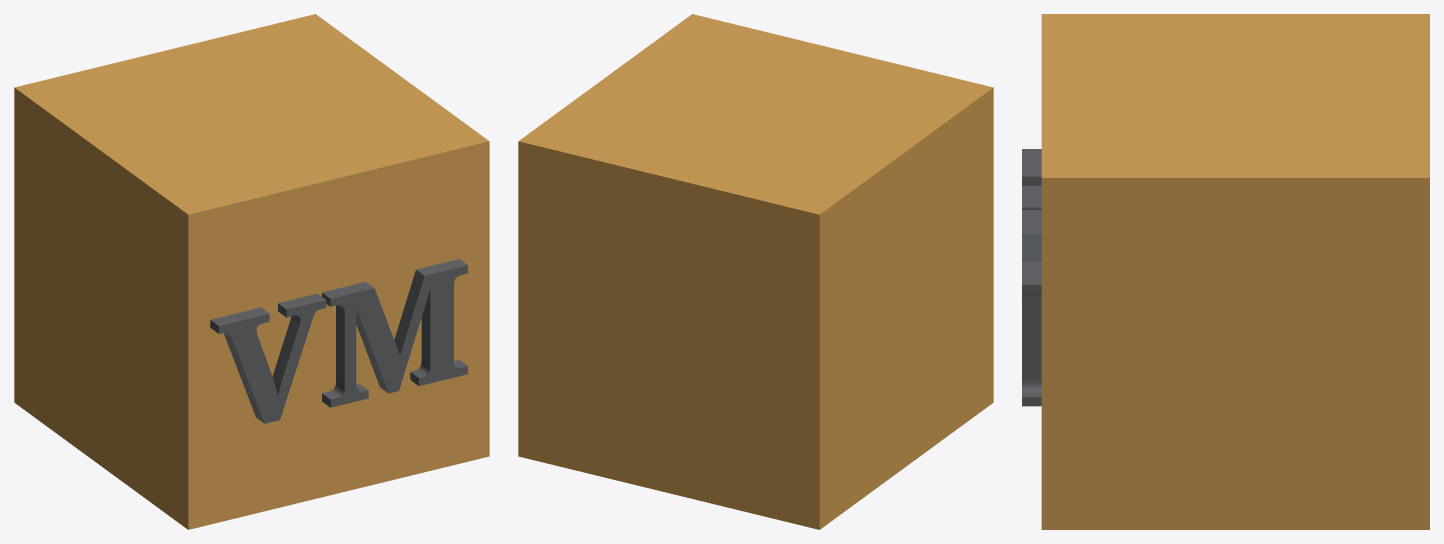
File: vmXY.glb
3 renders of one model, left to right at view 1: azimuth 30°, elevation 25°; view 2: azimuth 150°, elevation 25°; view 3: azimuth 270°, elevation 25°, orthographic. The views are drawn at different scales.
Visible parts, largest first — view 1: Mesh_Mesh_head_geo.001_lambert2SG.001; view 2: Mesh_Mesh_head_geo.001_lambert2SG.001; view 3: Mesh_Mesh_head_geo.001_lambert2SG.001.
Part boxes in pixels (box(x1,y1,x2,y2)): Mesh_Mesh_head_geo.001_lambert2SG.001: box(14, 14, 489, 529); Mesh_Mesh_head_geo.001_lambert2SG.001: box(518, 14, 993, 529); Mesh_Mesh_head_geo.001_lambert2SG.001: box(1022, 14, 1429, 529).
Size of the model in its own units: 20 by 20 by 21.
